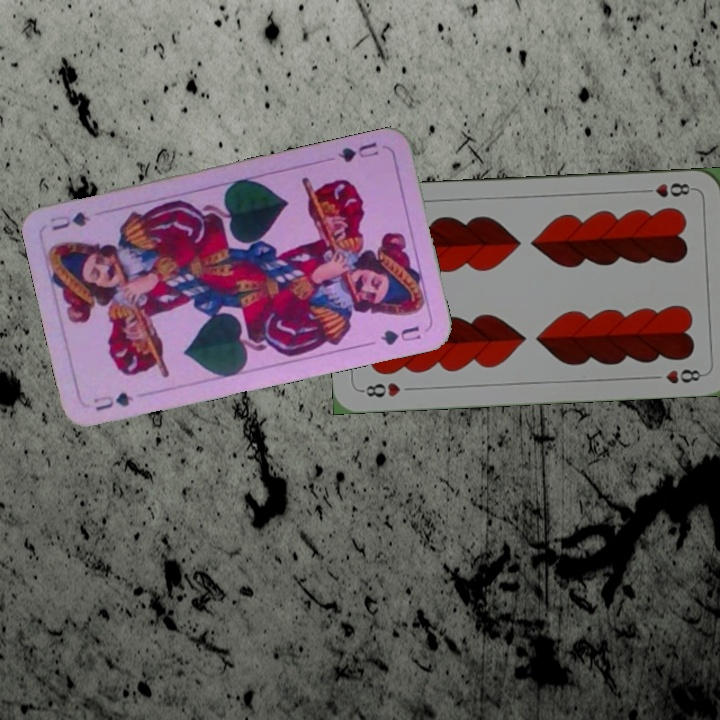GU: (334, 138, 381, 165), (89, 388, 136, 413)
H8: (638, 178, 697, 200), (357, 378, 403, 400)
